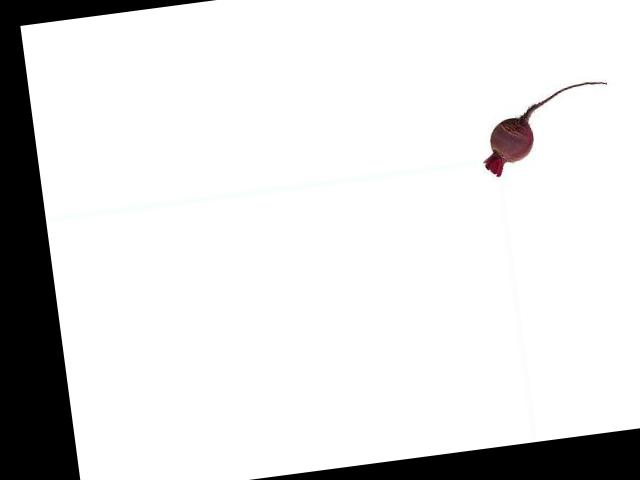beet: (475, 79, 618, 178)
